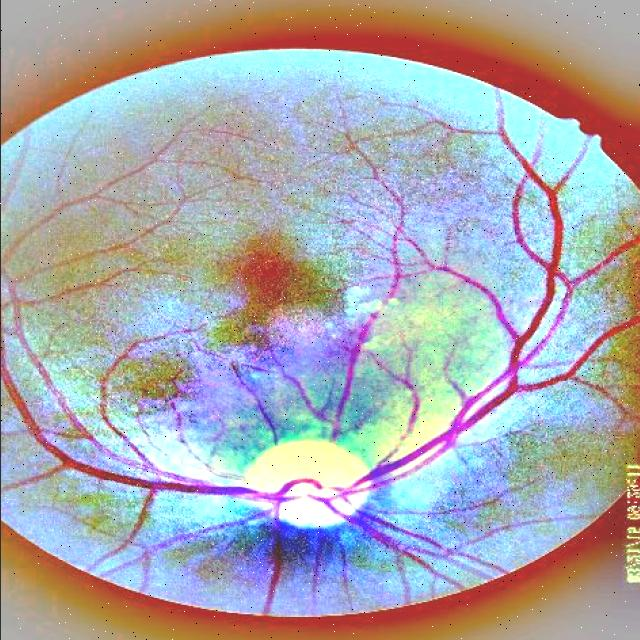Macula: (207, 211, 339, 349)
Nerves: (300, 160, 635, 509), (0, 243, 289, 519)
Optic Disk: (230, 430, 383, 556)
